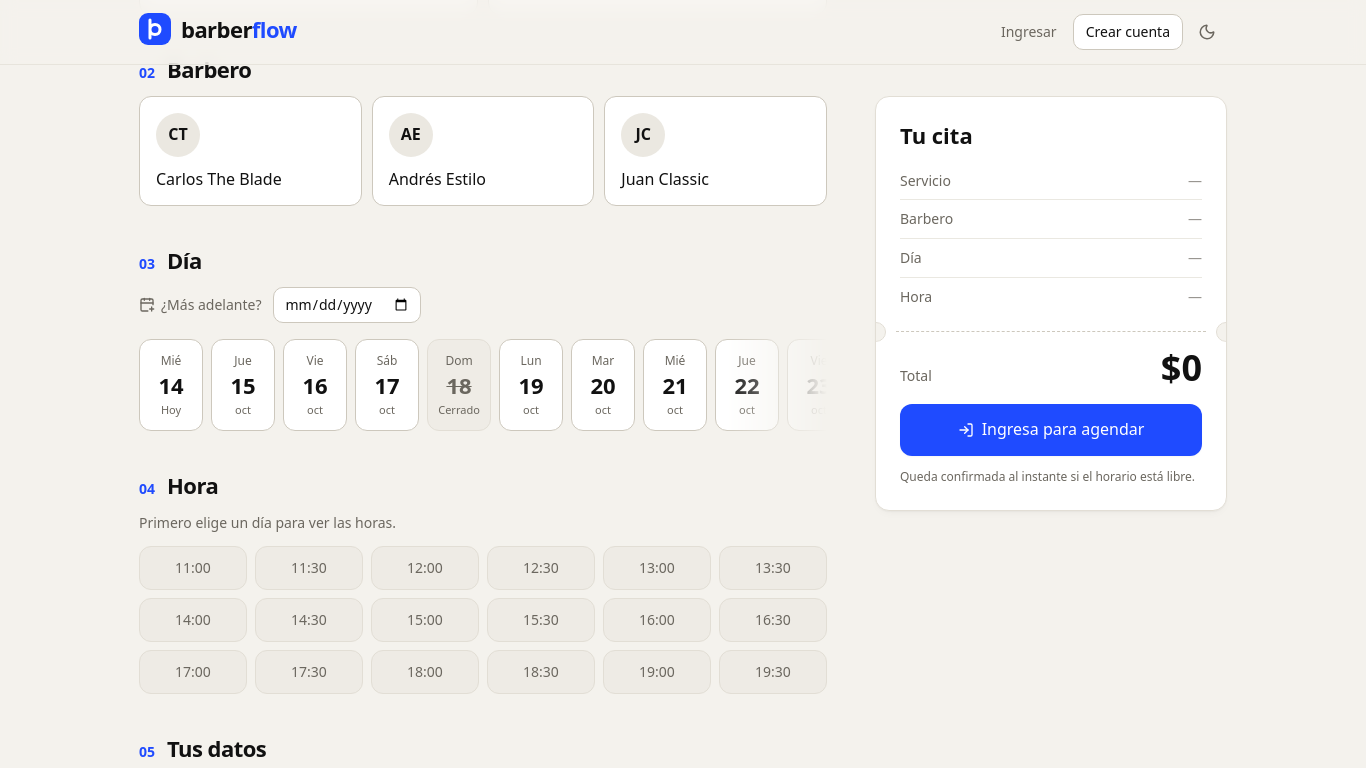
Test case: reserva sin sesión › bloquea los domingos y ofrece 18 turnos de 11:00 a 19:30
(page scrolled)
Expected: the radio button with aria-label "domingo 18 de octubre, cerrado" is disabled, [427,338,491,431]
Expected: the radio button labelled "11:00" is disabled, [139,546,247,590]
Click the radio button with aria-label "jueves 15 de octubre": [243, 385] box [211,338,275,431]
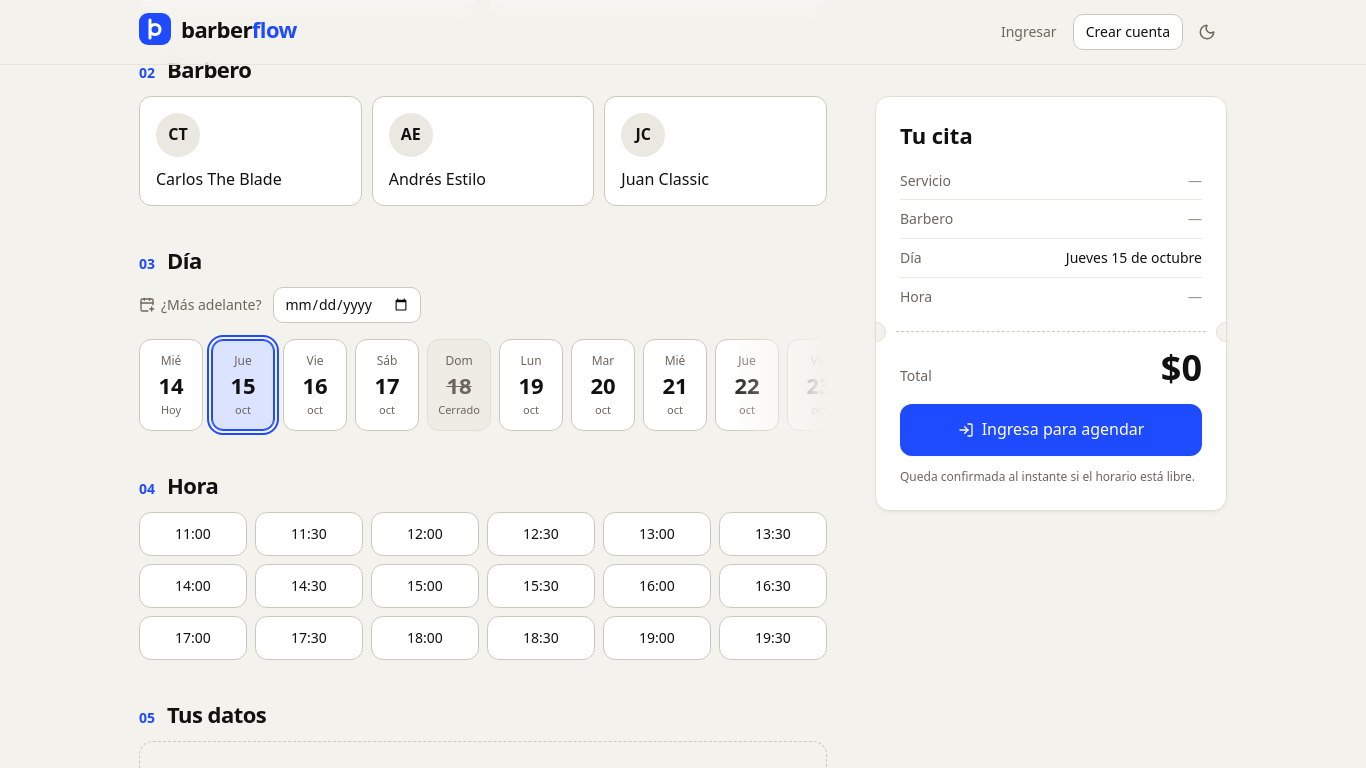
Expected: the radio button labelled "11:00" is enabled, [139,512,247,556]
